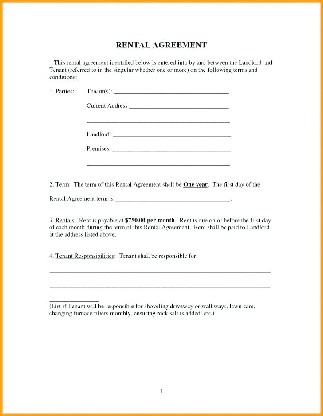textline: (48, 276, 271, 290), (48, 262, 270, 276), (83, 153, 232, 169), (85, 112, 231, 125), (112, 125, 233, 140), (113, 189, 234, 204), (112, 83, 231, 97), (113, 140, 232, 153), (129, 97, 231, 112), (48, 291, 100, 304)
